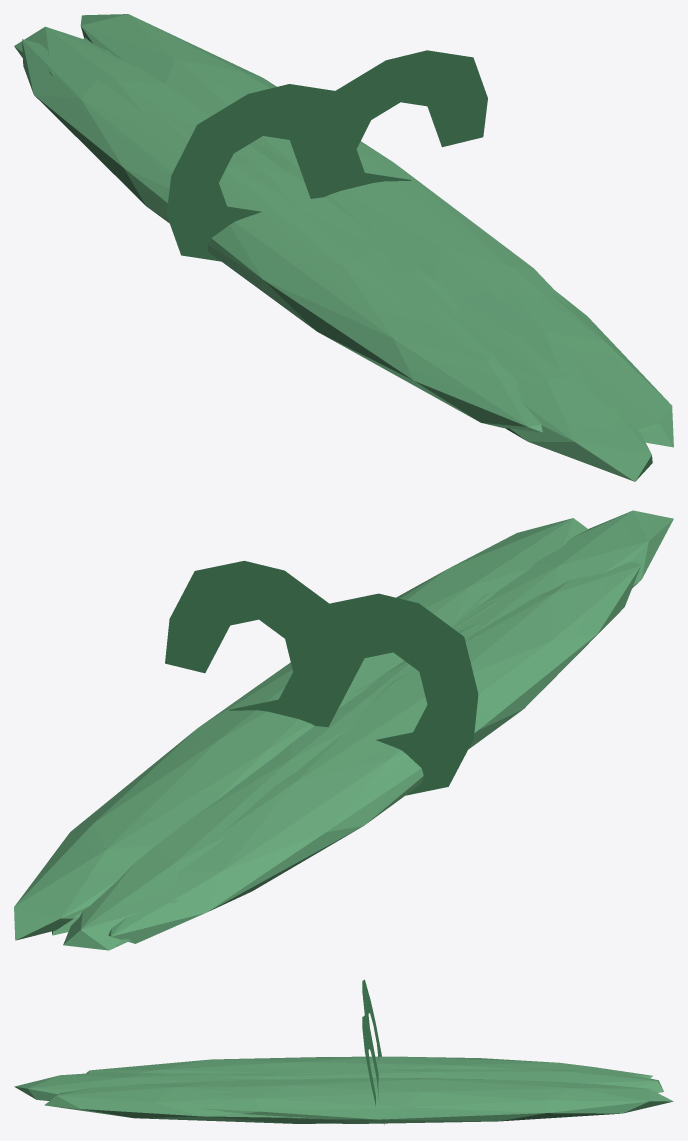
File: davallia-divaricata.glb
3 renders of one model, top to bottom at view 1: azimuth 30°, elevation 25°; view 2: azimuth 150°, elevation 25°; view 3: azimuth 270°, elevation 25°, orthographic. The views are drawn at different scales.
Parts seen in each view (by area): view 1: frond3, frond0, fiddle-1, fiddle1, frond2, frond1, frond4; view 2: frond3, frond0, fiddle1, fiddle-1, frond4, frond2, frond1; view 3: frond0, frond1, frond3, frond4, frond2, fiddle1, fiddle-1.
Part boxes in pixels (x1,y1,x2,y2): frond3: [22, 39, 542, 432]; frond0: [80, 14, 573, 310]; fiddle-1: [166, 84, 349, 261]; fiddle1: [304, 50, 487, 198]; frond2: [445, 293, 652, 481]; frond1: [464, 281, 673, 447]; frond4: [14, 26, 463, 317]; frond3: [108, 561, 640, 943]; frond0: [14, 601, 421, 940]; fiddle1: [165, 560, 343, 727]; fiddle-1: [303, 593, 478, 795]; frond4: [63, 622, 481, 950]; frond2: [451, 510, 673, 631]; frond1: [396, 518, 588, 626]; frond0: [201, 1078, 673, 1123]; frond1: [44, 1081, 346, 1123]; frond3: [86, 1056, 652, 1078]; frond4: [212, 1067, 663, 1092]; frond2: [14, 1072, 240, 1100]; fiddle1: [362, 1015, 384, 1124]; fiddle-1: [362, 979, 381, 1069].
Size of the model in its own units: 0.184 by 0.1055 by 0.6182.
